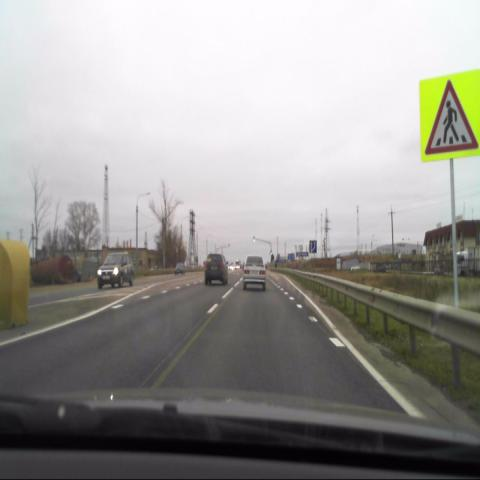1_22: (420, 71, 480, 159)
